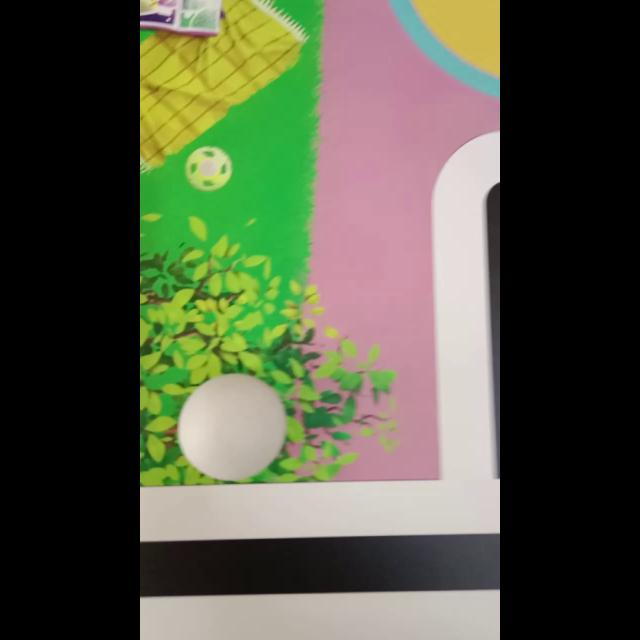white ball: (176, 372, 288, 481)
